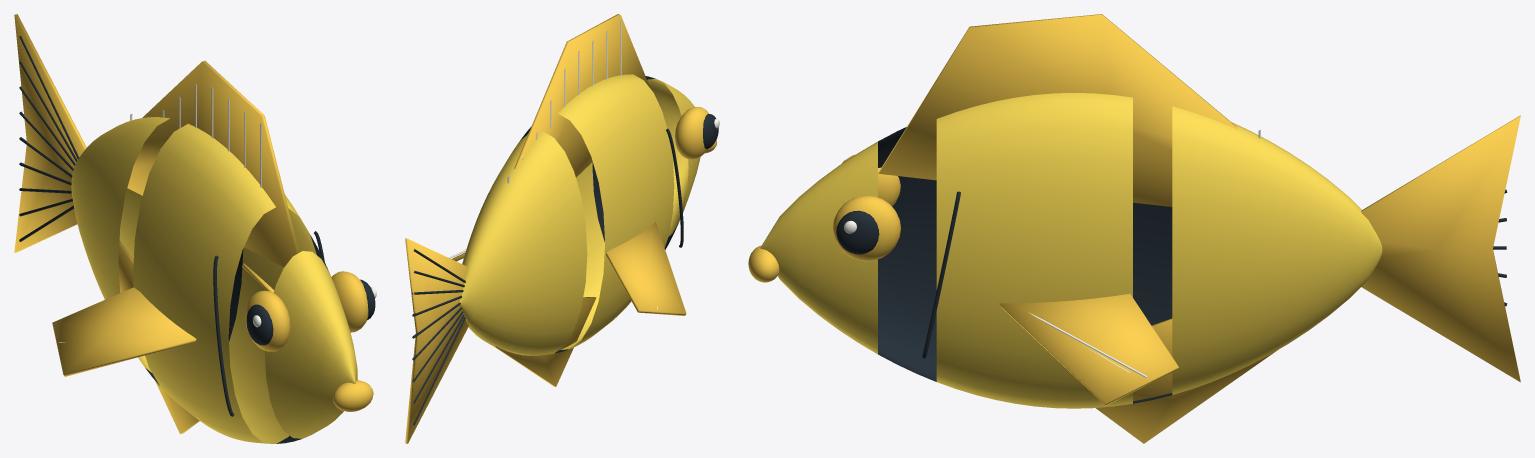
File: ReefButterfly.fbx
3 renders of one model, left to right at view 1: azimuth 30°, elevation 25°; view 2: azimuth 150°, elevation 25°; view 3: azimuth 270°, elevation 25°, orthographic. The views are drawn at different scales.
Parts seen in each view (by area): view 1: ReefButterfly mesh, Tail mesh; view 2: ReefButterfly mesh, Tail mesh; view 3: ReefButterfly mesh, Tail mesh.
Part boxes in pixels (box(x1,y1,x2,y2)): ReefButterfly mesh: box(52, 60, 376, 443); Tail mesh: box(14, 14, 86, 252); ReefButterfly mesh: box(448, 14, 719, 386); Tail mesh: box(405, 238, 468, 443); ReefButterfly mesh: box(748, 14, 1382, 443); Tail mesh: box(1361, 115, 1520, 382).
Size of the model in its own units: 50.34 by 68 by 111.
